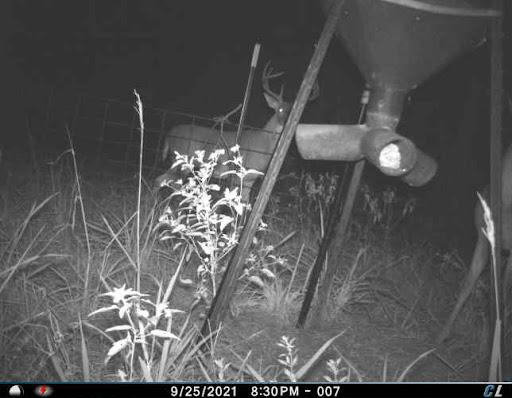Deer: (156, 61, 310, 209)
